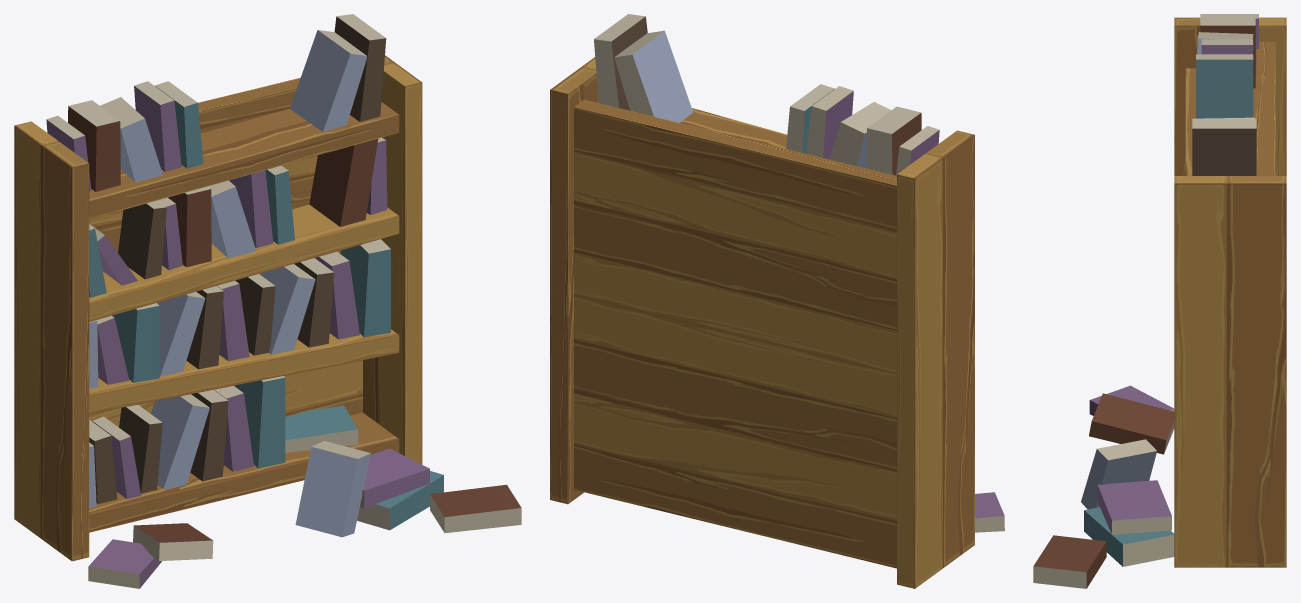
The model's file is Bookshelf_1.FBX.
3 renders of one model, left to right at view 1: azimuth 30°, elevation 25°; view 2: azimuth 150°, elevation 25°; view 3: azimuth 270°, elevation 25°, orthographic. The views are drawn at different scales.
Parts seen in each view (by area): view 1: Bookshelf_1; view 2: Bookshelf_1; view 3: Bookshelf_1.
Part boxes in pixels (left/top/right/bottom): Bookshelf_1: left=14, top=14, right=521, bottom=588; Bookshelf_1: left=550, top=14, right=1004, bottom=588; Bookshelf_1: left=1033, top=14, right=1286, bottom=588.
Bounding box in the file's own units: 59.75 × 63.7 × 33.98.
